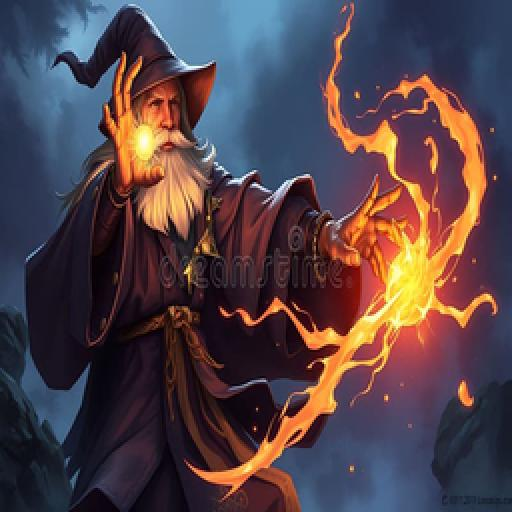wizards: (23, 2, 409, 508)
